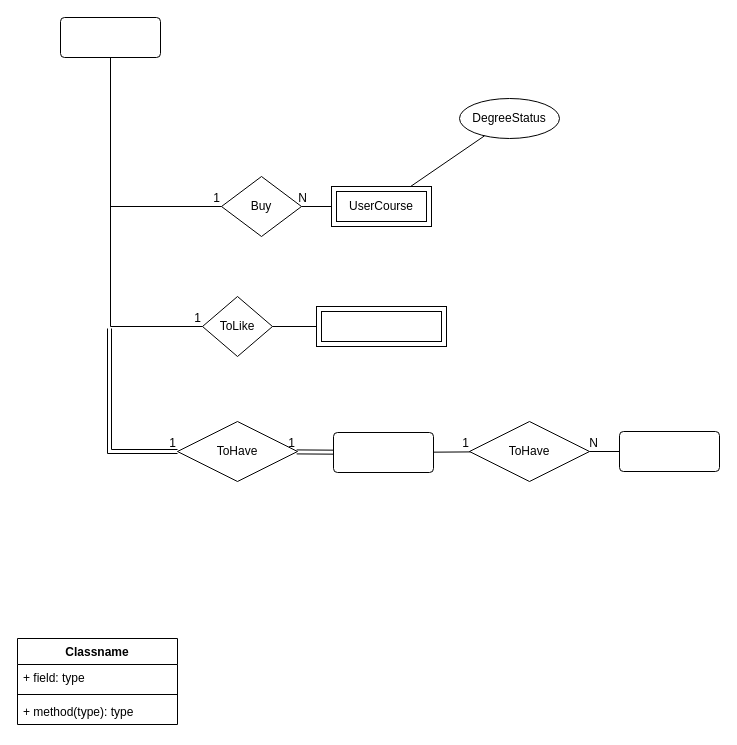
The diagram is 737 pixels wide and 745 high, and some of its shapes have lost their labels. Here are the shapes that lost their labels. From the top down, the box of each, then its label:
(60, 16, 160, 58): User
(316, 306, 446, 346): UserFavoriteCourse
(332, 432, 434, 472): Wallet
(618, 430, 720, 472): WalletFlow
